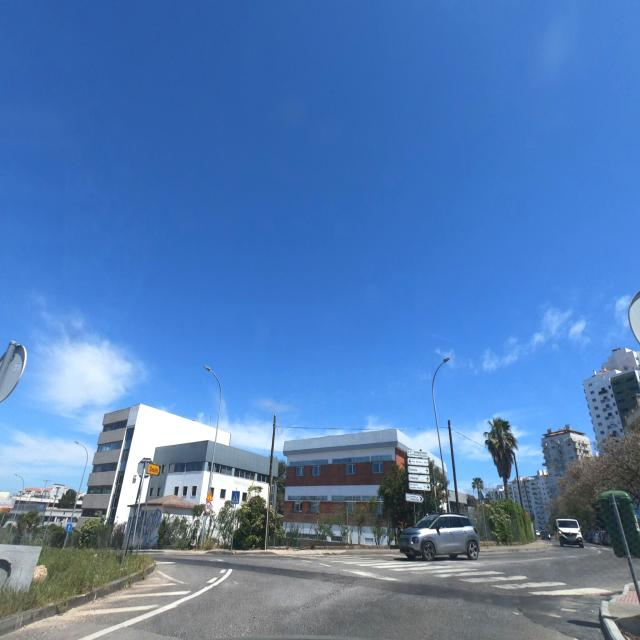car: (398, 512, 481, 562), (558, 518, 584, 547), (540, 530, 552, 540)
